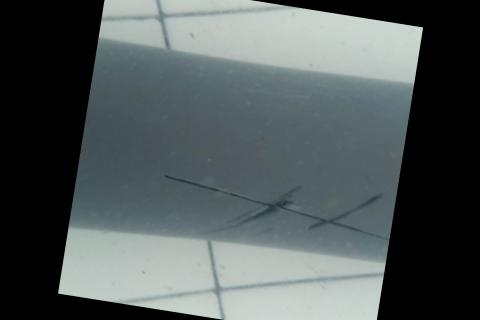keretakan: (151, 156, 396, 264)
